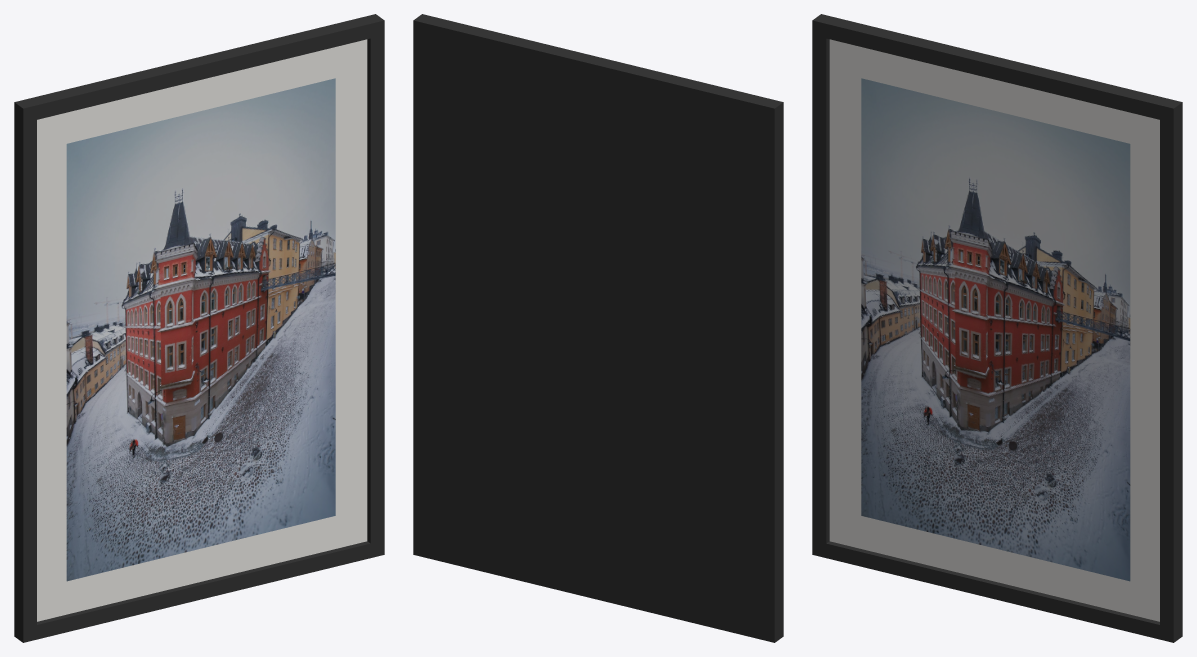
The model's file is sno-pa-soder-60.gltf.
The picture shows the model from 3 angles, left to right: view 1: azimuth 30°, elevation 25°; view 2: azimuth 150°, elevation 25°; view 3: azimuth 330°, elevation 25°; orthographic projection.
Parts seen in each view (by area): view 1: tavla; view 2: tavla; view 3: tavla.
Part boxes in pixels (x1=…): tavla: x1=14, y1=14, x2=384, y2=642; tavla: x1=413, y1=14, x2=783, y2=642; tavla: x1=812, y1=14, x2=1182, y2=642.
Bounding box in the file's own units: 0.5186 × 0.7326 × 0.022.
3 materials, 1 textured.
